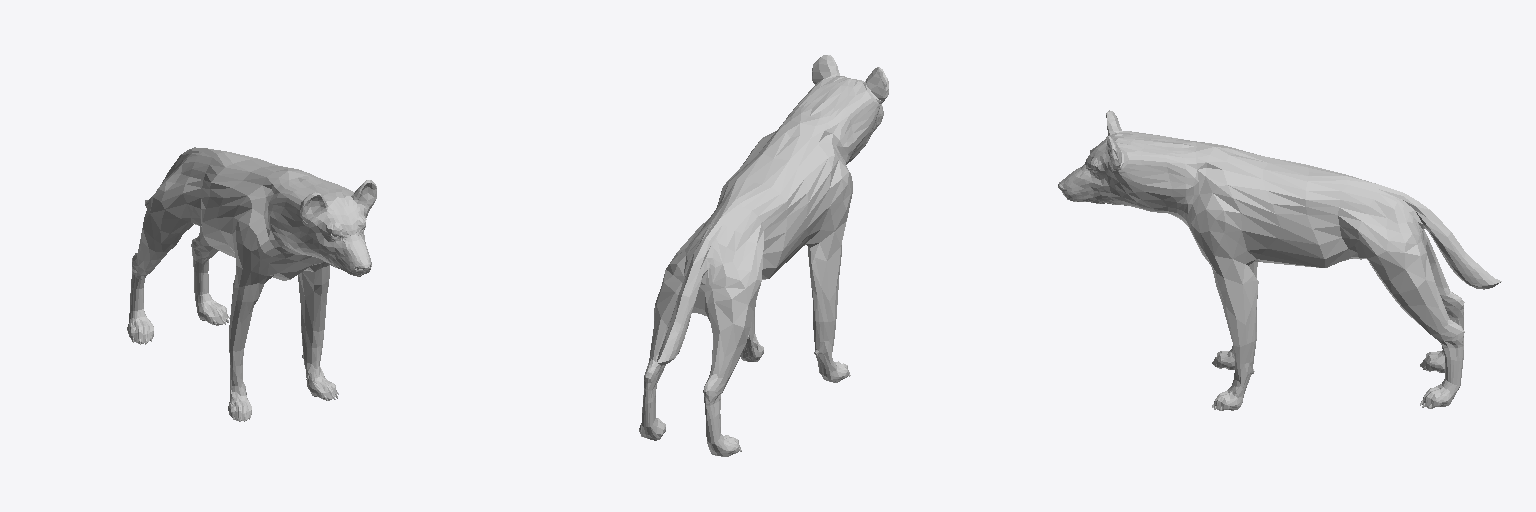
The model's file is HYENA.OBJ.
The picture shows the model from 3 angles: view 1: azimuth 30°, elevation 25°; view 2: azimuth 150°, elevation 25°; view 3: azimuth 270°, elevation 25°; orthographic projection.
Visible parts, largest first — view 1: hy_body; view 2: hy_body; view 3: hy_body.
Boxes of the visible parts, x1=… form: hy_body: x1=127, y1=147, x2=376, y2=421; hy_body: x1=639, y1=55, x2=888, y2=456; hy_body: x1=1058, y1=110, x2=1501, y2=410.
Bounding box in the file's own units: 0.349 × 0.834 × 1.27.